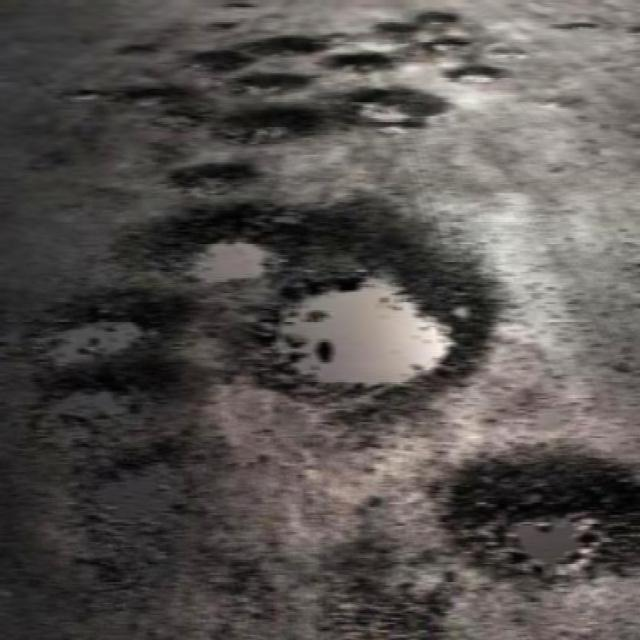Pothole: (238, 190, 510, 430), (34, 370, 200, 598), (439, 442, 640, 581), (116, 200, 300, 290), (32, 292, 166, 366), (209, 100, 330, 152), (341, 88, 445, 141), (161, 150, 257, 203), (210, 69, 326, 100), (242, 30, 326, 66), (327, 48, 400, 76), (185, 47, 248, 76), (141, 106, 206, 132), (124, 83, 188, 108), (410, 35, 480, 56), (58, 83, 107, 110), (544, 15, 600, 38), (408, 5, 456, 31), (116, 37, 168, 61), (453, 66, 504, 90), (372, 22, 425, 38), (204, 16, 239, 36), (216, 0, 272, 11)
